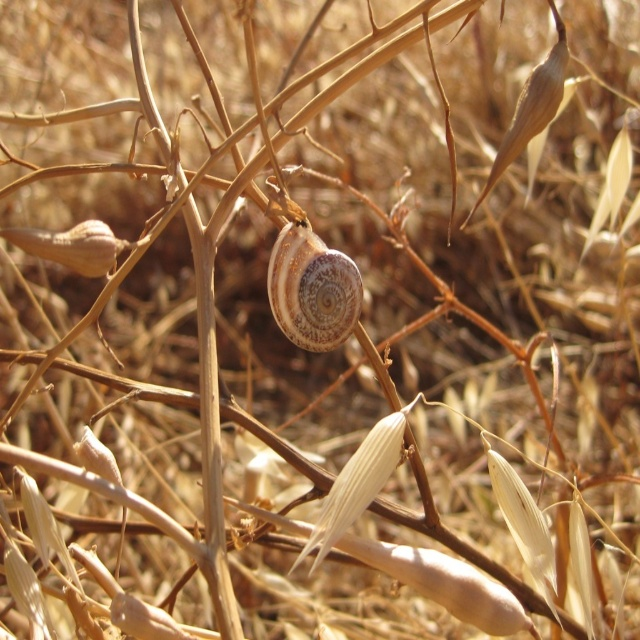Snail: (264, 216, 372, 361)
